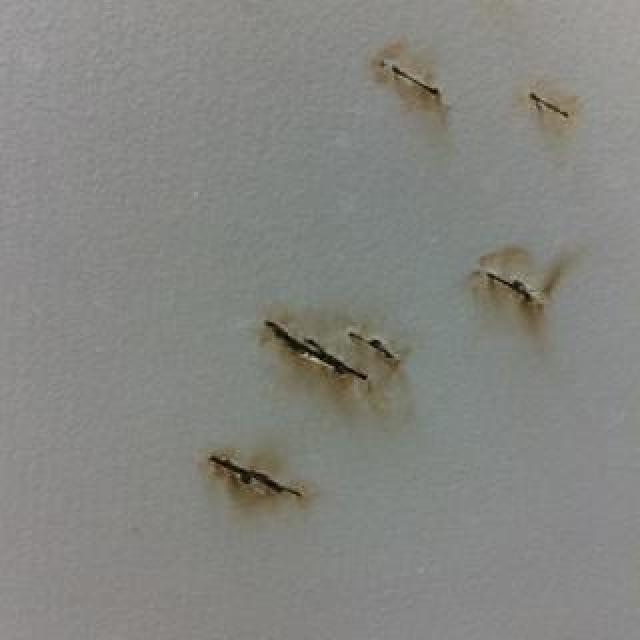crack: (262, 321, 366, 381), (200, 454, 306, 498), (477, 272, 541, 304), (387, 63, 441, 99), (345, 333, 401, 365), (523, 94, 571, 122)
